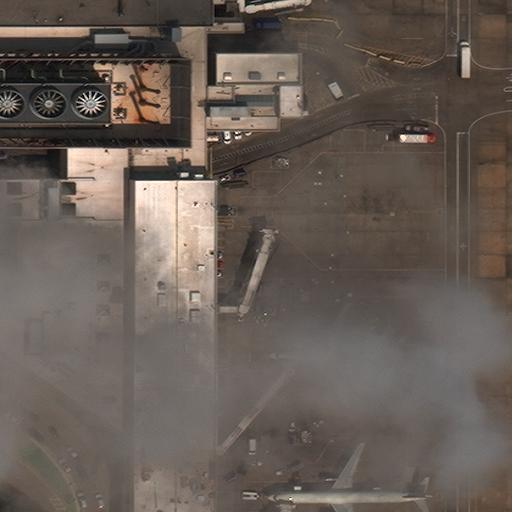Medium Civil Transport: (262, 443, 436, 512)
